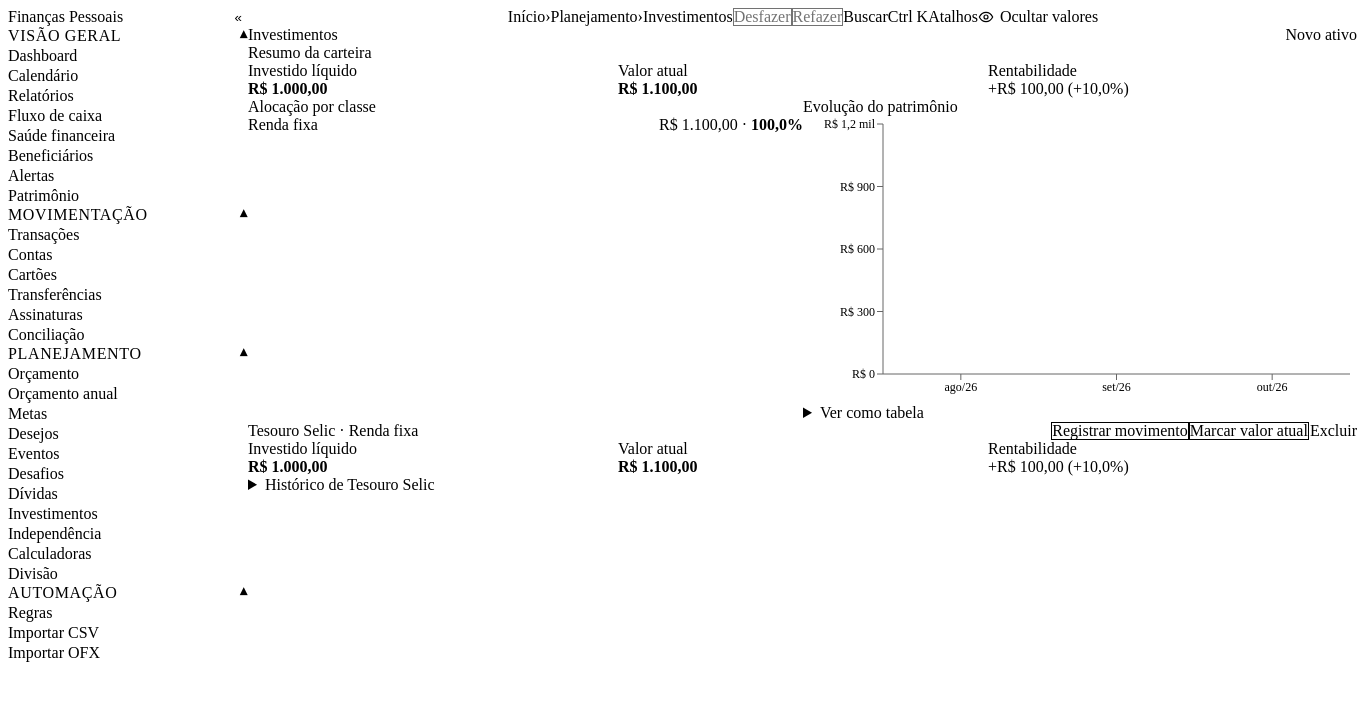
Test: investimentos: tela (critérios 2, 11, 14) › critério 12: exclui um movimento recusado, depois o ativo com confirmação
Click the heading "Histórico de Tesouro Selic".
click(350, 484)  # box [265, 476, 435, 493]
(page scrolled)
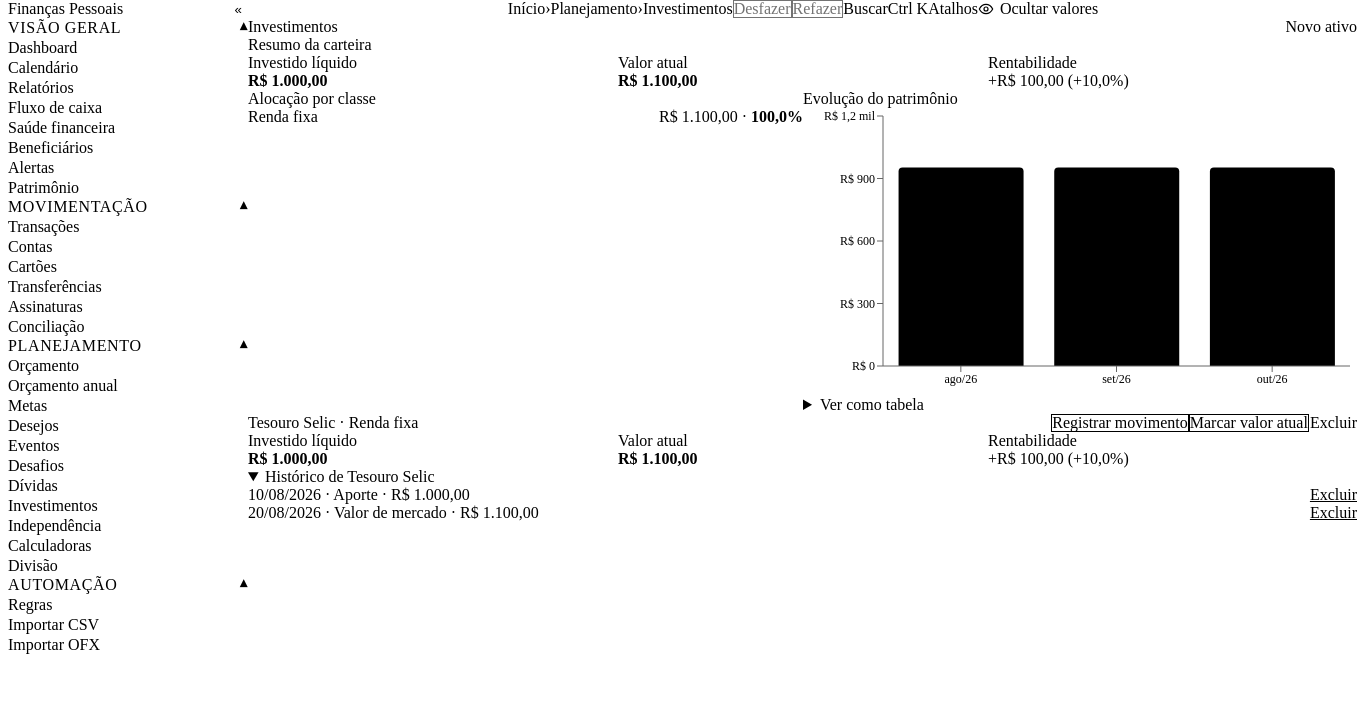
Click the button with aria-label "Excluir marcação de".
click(1333, 513)  # box [1309, 504, 1358, 522]
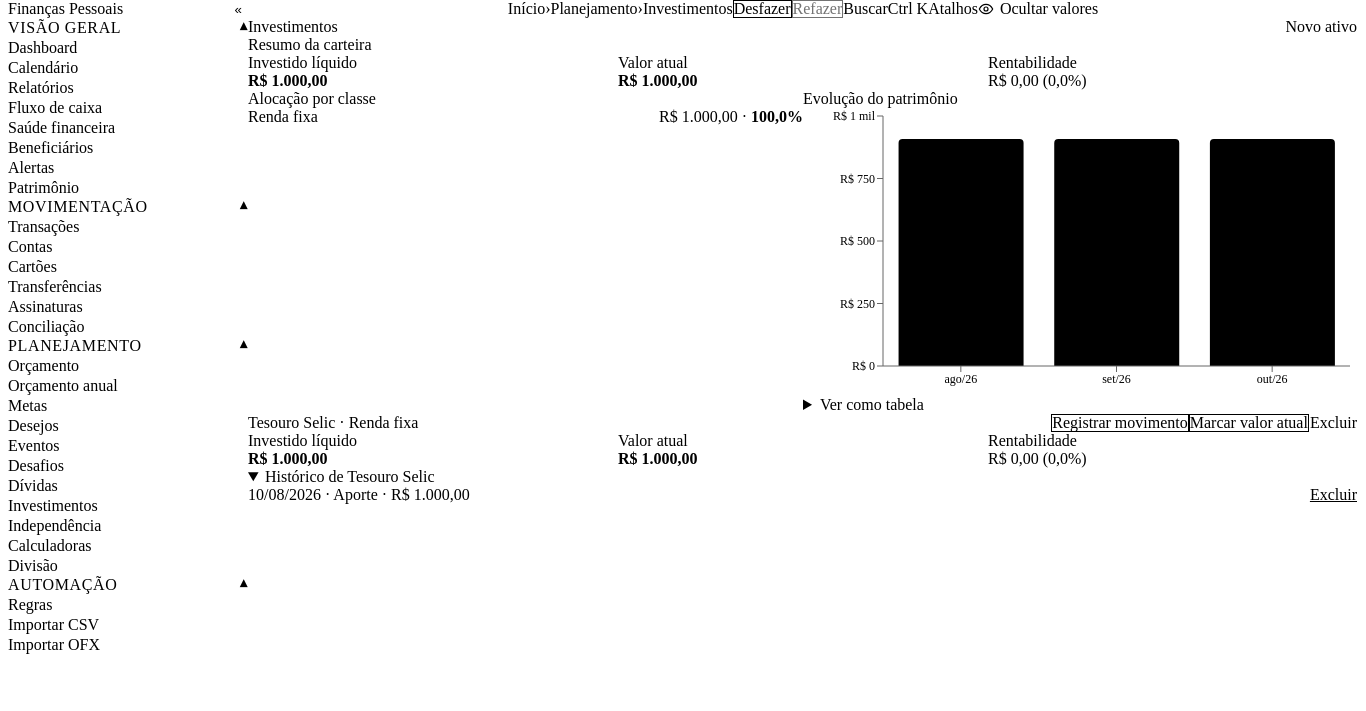
Result: the text with test id "ativo-atual" reads "R$ 1.000,00" at [618, 450, 698, 467]
Click the button with aria-label "Excluir ativo Tesouro Selic".
click(1333, 423)  # box [1309, 414, 1358, 432]
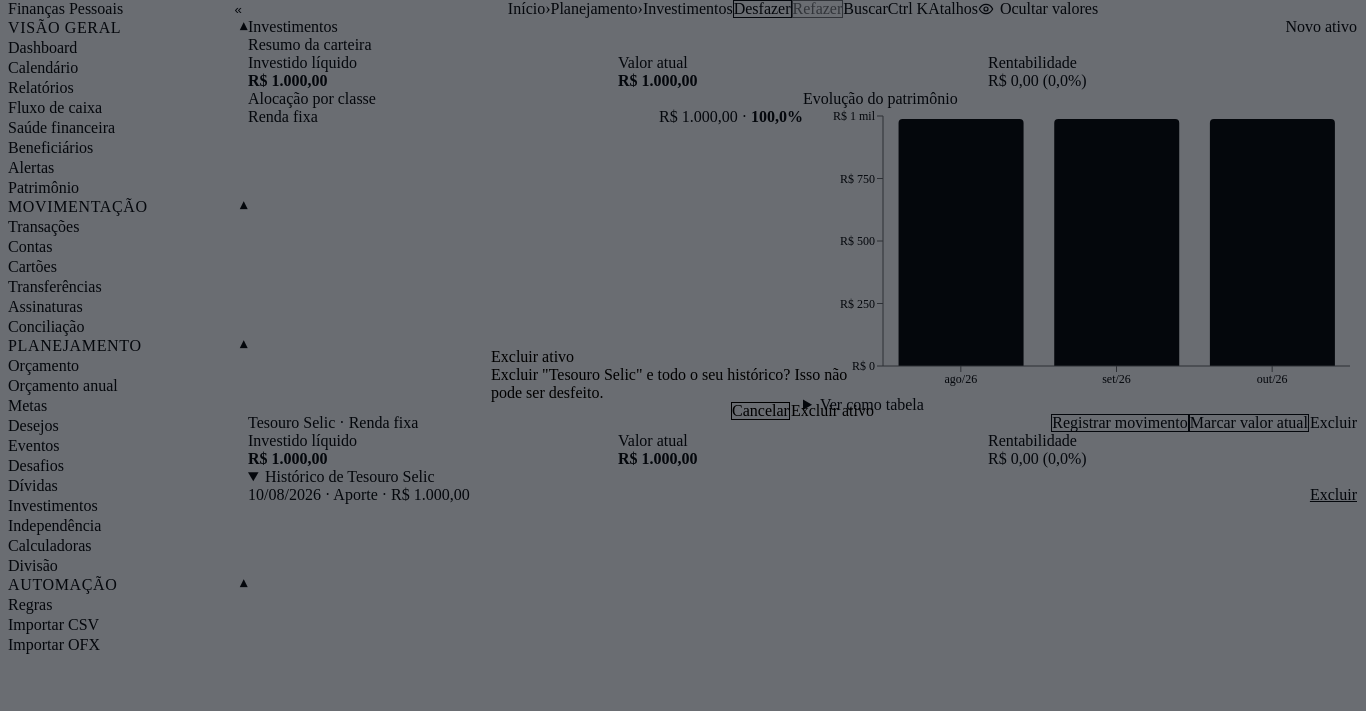
Click the button "Excluir ativo".
click(832, 411)  # box [790, 402, 875, 420]
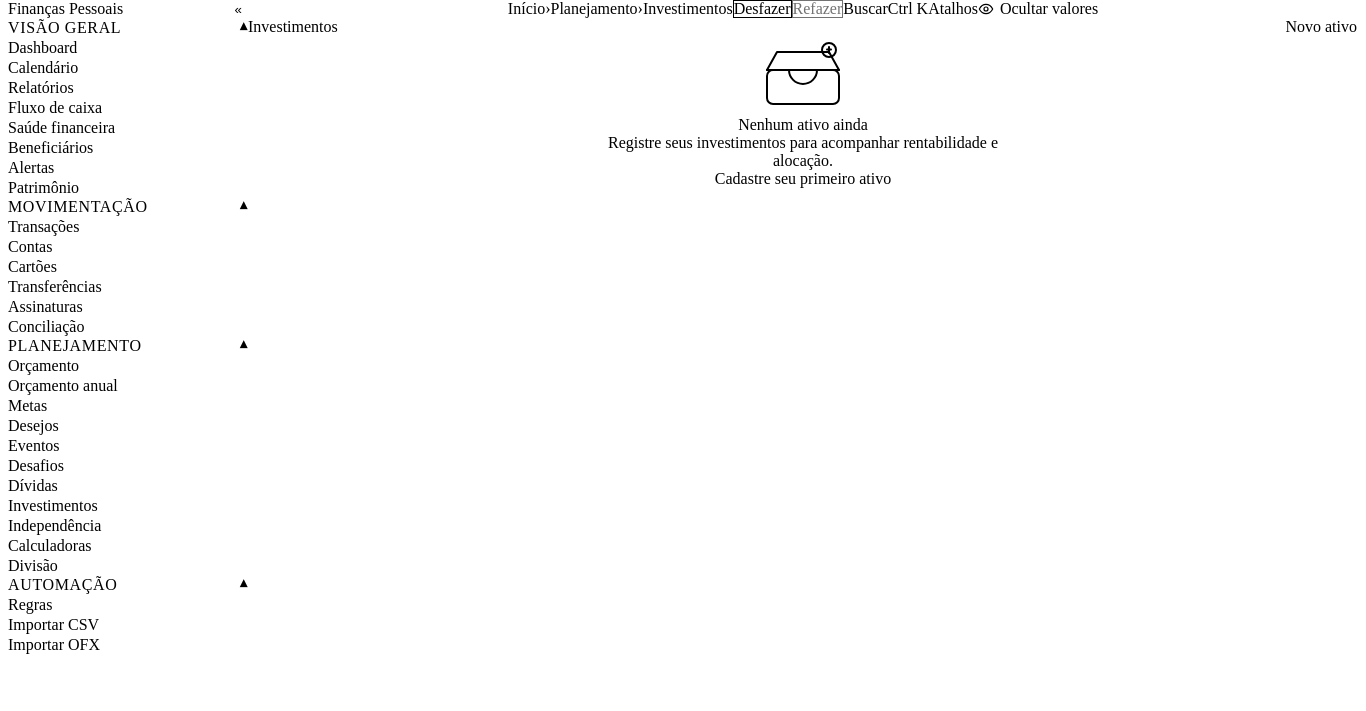
Result: the text "Nenhum ativo ainda" is shown at [738, 116, 868, 134]
